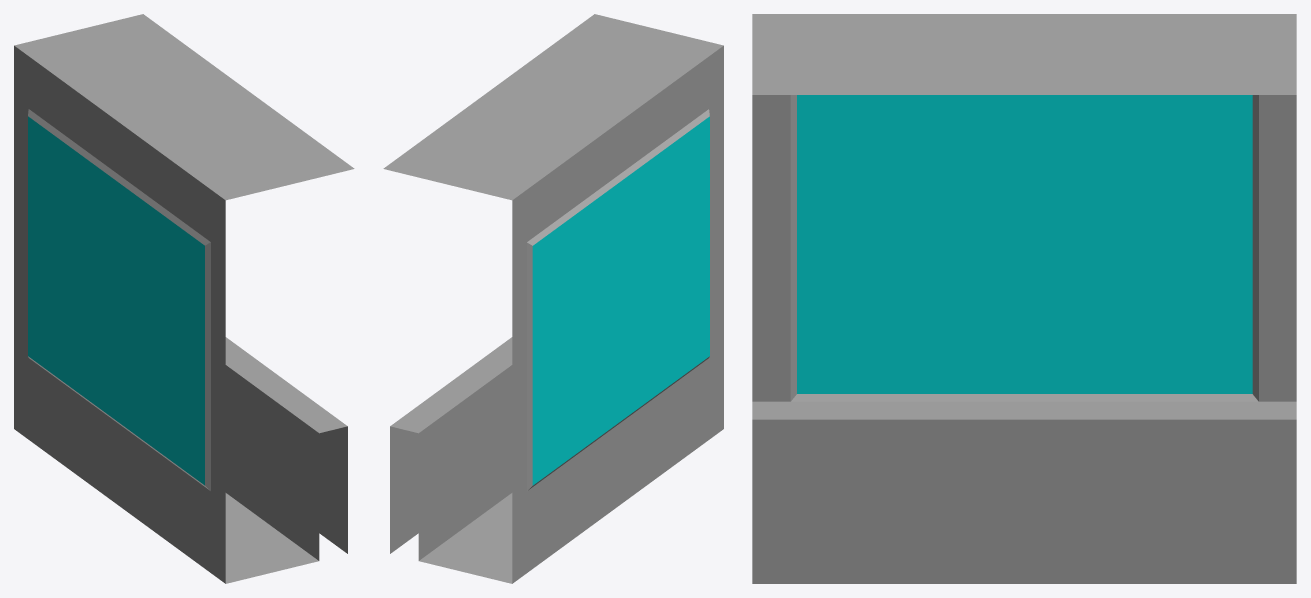
Rendered from kitsch_wall_window_01_LOD0.fbx.
The picture shows the model from 3 angles, left to right: view 1: azimuth 30°, elevation 25°; view 2: azimuth 150°, elevation 25°; view 3: azimuth 270°, elevation 25°; orthographic projection. The views are drawn at different scales.
Visible parts, largest first — view 1: kitsch_wall_window_01_LOD0; view 2: kitsch_wall_window_01_LOD0; view 3: kitsch_wall_window_01_LOD0.
Part boxes in pixels (left/top/right/bottom): kitsch_wall_window_01_LOD0: left=14, top=14, right=354, bottom=583; kitsch_wall_window_01_LOD0: left=383, top=14, right=723, bottom=583; kitsch_wall_window_01_LOD0: left=752, top=14, right=1296, bottom=583.
Size of the model in its own units: 1.08 by 3 by 3.
